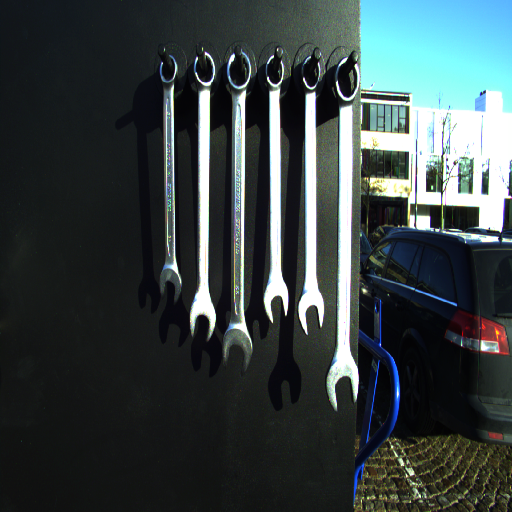bottom: (324, 355, 359, 413), (221, 317, 252, 372), (188, 291, 217, 341), (296, 290, 326, 336), (260, 280, 291, 324), (156, 265, 184, 302)
top: (333, 56, 362, 103), (225, 51, 253, 91), (192, 51, 218, 88), (299, 55, 323, 92), (263, 53, 286, 88), (156, 53, 180, 83)
